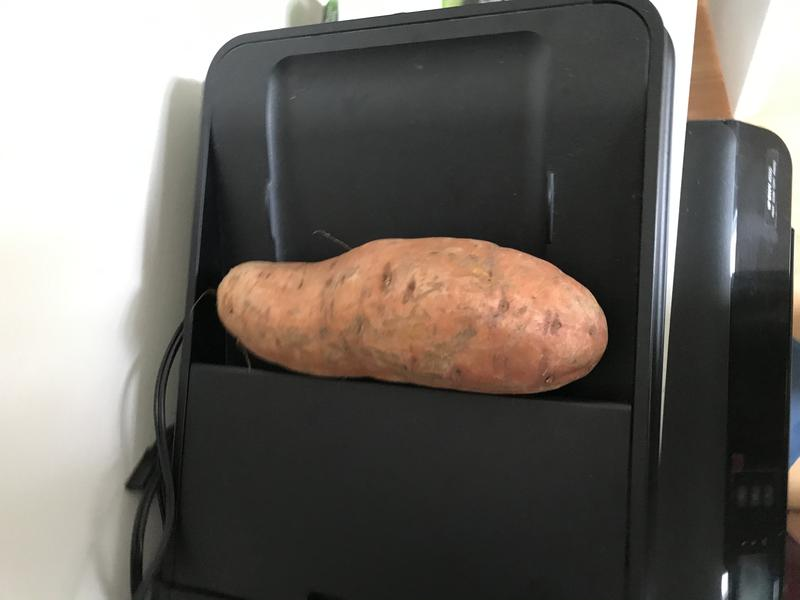sweet_potato: (199, 232, 624, 408)
